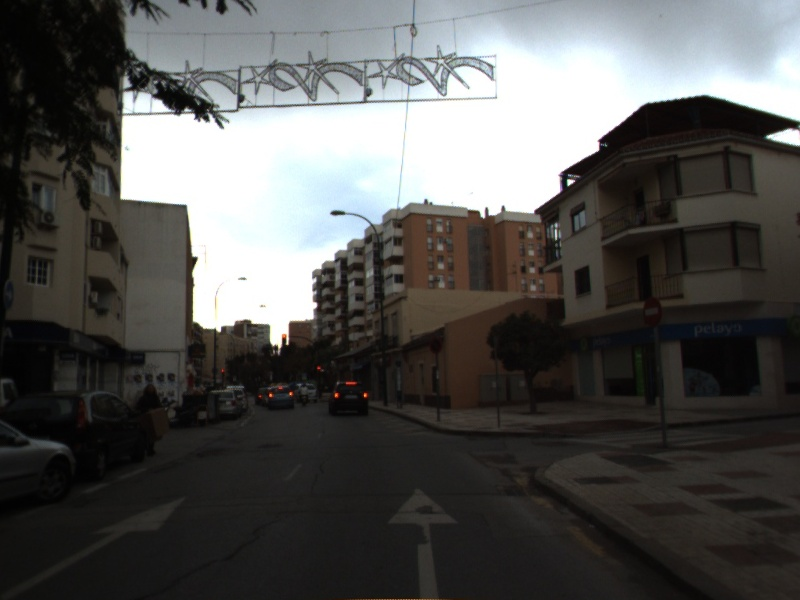STRAIGHT: (1, 491, 190, 600), (382, 484, 464, 600)
